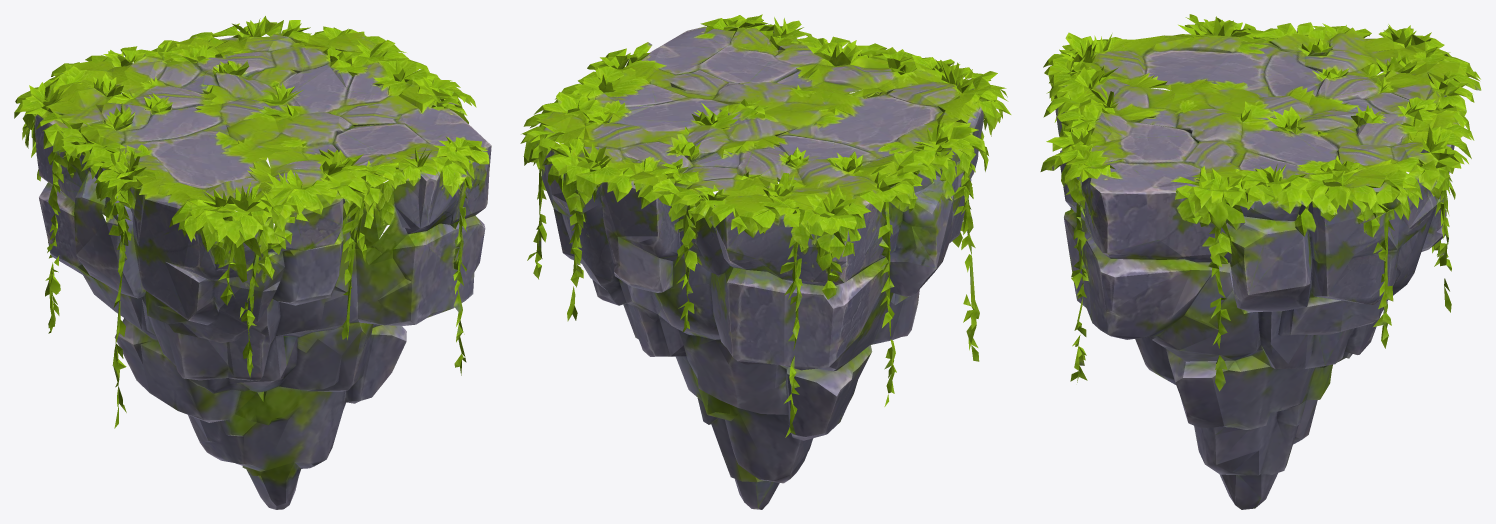
Rendered from floating_island.glb.
3 renders of one model, left to right at view 1: azimuth 30°, elevation 25°; view 2: azimuth 150°, elevation 25°; view 3: azimuth 270°, elevation 25°, orthographic.
Visible parts, largest first — view 1: output_unwrapped; view 2: output_unwrapped; view 3: output_unwrapped.
Part boxes in pixels (x1,y1,x2,y2): output_unwrapped: [14, 16, 491, 509]; output_unwrapped: [520, 14, 1011, 509]; output_unwrapped: [1040, 14, 1481, 509].
Size of what is drawn, in the model's own units: 0.9532 by 1 by 0.9663.
1 material, 1 textured.
